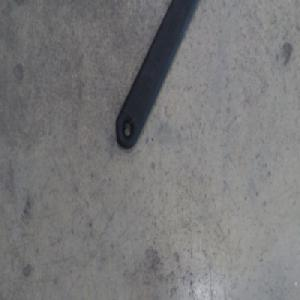AdjustableWrench: (116, 0, 199, 149)
